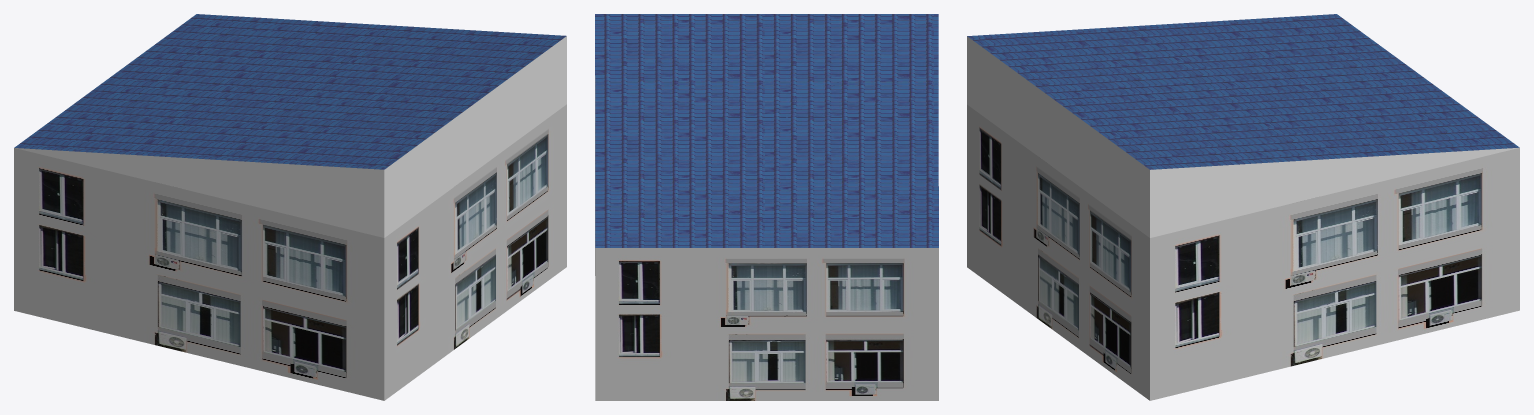
3 views of the same model, side by side, from view 1: azimuth 30°, elevation 25°; view 2: azimuth 150°, elevation 25°; view 3: azimuth 270°, elevation 25° (orthographic). The views are drawn at different scales.
Visible parts, largest first — view 1: CityEngineMaterial_9_m, CityEngineMaterial_10_m, CityEngineMaterial_3_m; view 2: CityEngineMaterial_10_m, CityEngineMaterial_9_m; view 3: CityEngineMaterial_9_m, CityEngineMaterial_10_m, CityEngineMaterial_3_m.
Boxes of the visible parts, bbox=[...] form: CityEngineMaterial_9_m: bbox=[14, 104, 566, 400]; CityEngineMaterial_10_m: bbox=[14, 14, 566, 169]; CityEngineMaterial_3_m: bbox=[15, 36, 566, 237]; CityEngineMaterial_10_m: bbox=[595, 14, 938, 247]; CityEngineMaterial_9_m: bbox=[595, 123, 938, 400]; CityEngineMaterial_9_m: bbox=[967, 104, 1519, 400]; CityEngineMaterial_10_m: bbox=[967, 14, 1519, 169]; CityEngineMaterial_3_m: bbox=[967, 36, 1519, 237].
Bounding box in the file's own units: 29.41 × 14.14 × 30.66.
